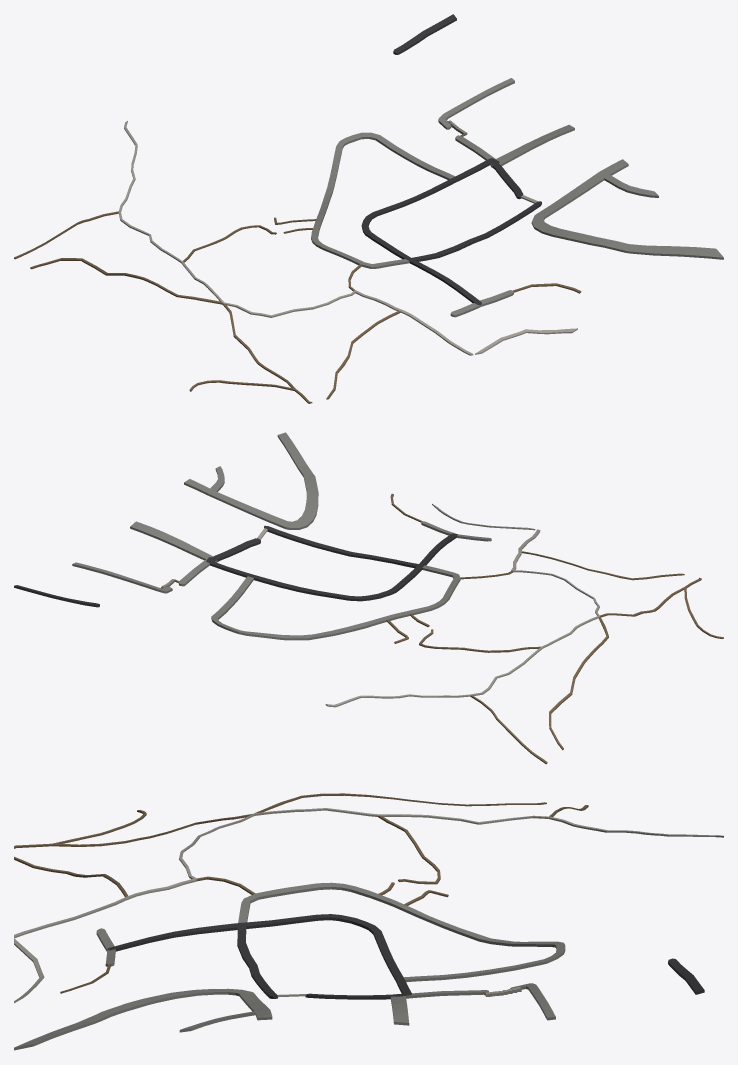
3 renders of one model, top to bottom at view 1: azimuth 30°, elevation 25°; view 2: azimuth 150°, elevation 25°; view 3: azimuth 270°, elevation 25°, orthographic. The views are drawn at different scales.
Bounding box in the file's own units: 293 × 56.12 × 292.
